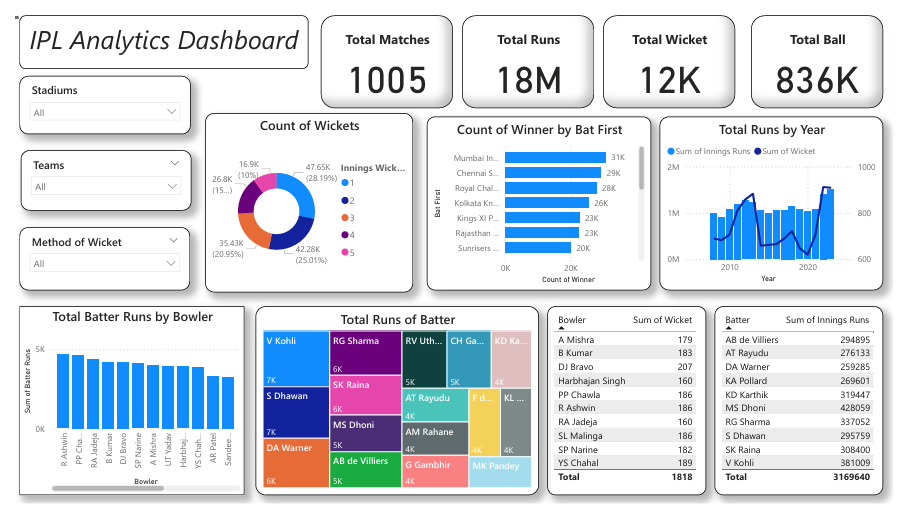

The page's visual inventory and layout, read from the dashboard file:
{"tool":"powerbi","page":{"name":"Page 1","canvas":[1280,720],"ordinal":0},"visuals":[{"type":"textbox","box":[10.2,10.2,420,77.6],"z":0},{"type":"card","title":"Total Matches","fields":{"Values":["Count(ball_by_ball_ipl.Match ID)"]},"box":[448.3,10,191.7,135],"z":1000},{"type":"card","title":"Total Runs","fields":{"Values":["Sum(ball_by_ball_ipl.Innings Runs)"]},"box":[653.3,10,191.7,135],"z":2000},{"type":"card","title":"Total Wicket","fields":{"Values":["Sum(ball_by_ball_ipl.Wicket)"]},"box":[858.3,10,191.7,135],"z":3000},{"type":"slicer","fields":{"Values":["ball_by_ball_ipl.Venue"]},"box":[10.2,98,248.8,84.9],"z":4000},{"type":"slicer","fields":{"Values":["ball_by_ball_ipl.Winner"]},"box":[11.7,206.3,248.8,87.8],"z":5000},{"type":"barChart","fields":{"Category":["ball_by_ball_ipl.Bat First"],"Y":["CountNonNull(ball_by_ball_ipl.Winner)"]},"box":[601.7,156.7,326.7,253.3],"z":6000},{"type":"donutChart","title":"Count of Wickets","fields":{"Y":["CountNonNull(ball_by_ball_ipl.Method)"],"Category":["ball_by_ball_ipl.Innings Wickets"]},"box":[280,151.7,301.7,261.7],"z":7000},{"type":"tableEx","fields":{"Values":["ball_by_ball_ipl.Bowler","Sum(ball_by_ball_ipl.Wicket)"]},"box":[776.7,433.3,231.7,275],"z":8000},{"type":"actionButton","box":[0,0,100,40],"z":9000},{"type":"tableEx","fields":{"Values":["ball_by_ball_ipl.Batter","Sum(ball_by_ball_ipl.Innings Runs)"]},"box":[1020,433.3,245,275],"z":10000},{"type":"columnChart","title":"Total Batter Runs by Bowler","fields":{"Category":["ball_by_ball_ipl.Bowler"],"Y":["Sum(ball_by_ball_ipl.Batter Runs)"]},"box":[10,433.3,326.7,275],"z":11000},{"type":"lineStackedColumnComboChart","title":"Total Runs by Year","fields":{"Y":["Sum(ball_by_ball_ipl.Innings Runs)"],"Category":["ball_by_ball_ipl.Date.Variation.Date Hierarchy.Year"],"Y2":["Sum(ball_by_ball_ipl.Wicket)"]},"box":[940,156.7,325,253.3],"z":12000},{"type":"treemap","title":"Total Runs of Batter","fields":{"Group":["ball_by_ball_ipl.Batter"],"Values":["Sum(ball_by_ball_ipl.Batter Runs)"]},"box":[353.3,433.3,411.7,275],"z":13000},{"type":"card","title":"Total Ball","fields":{"Values":["Sum(ball_by_ball_ipl.Ball)"]},"box":[1073.3,10,191.7,135],"z":14000},{"type":"slicer","fields":{"Values":["ball_by_ball_ipl.Method"]},"box":[10.2,317.6,247.3,92.2],"z":14002}]}

Visuals, with their boxes in screenshot pixels (x1, y1, x2, y2), scaled from the page's 1280x720 canvas onto the 905x515 screenshot:
textbox: left=7, top=7, right=304, bottom=63
"Total Matches" card: left=317, top=7, right=452, bottom=104
"Total Runs" card: left=462, top=7, right=597, bottom=104
"Total Wicket" card: left=607, top=7, right=742, bottom=104
slicer - ball_by_ball_ipl.Venue: left=7, top=70, right=183, bottom=131
slicer - ball_by_ball_ipl.Winner: left=8, top=148, right=184, bottom=210
barChart - ball_by_ball_ipl.Bat First x CountNonNull(ball_by_ball_ipl.Winner): left=425, top=112, right=656, bottom=293
"Count of Wickets" donutChart: left=198, top=109, right=411, bottom=296
tableEx - ball_by_ball_ipl.Bowler x Sum(ball_by_ball_ipl.Wicket): left=549, top=310, right=713, bottom=507
actionButton: left=0, top=0, right=71, bottom=29
tableEx - ball_by_ball_ipl.Batter x Sum(ball_by_ball_ipl.Innings Runs): left=721, top=310, right=894, bottom=507
"Total Batter Runs by Bowler" columnChart: left=7, top=310, right=238, bottom=507
"Total Runs by Year" lineStackedColumnComboChart: left=665, top=112, right=894, bottom=293
"Total Runs of Batter" treemap: left=250, top=310, right=541, bottom=507
"Total Ball" card: left=759, top=7, right=894, bottom=104
slicer - ball_by_ball_ipl.Method: left=7, top=227, right=182, bottom=293
